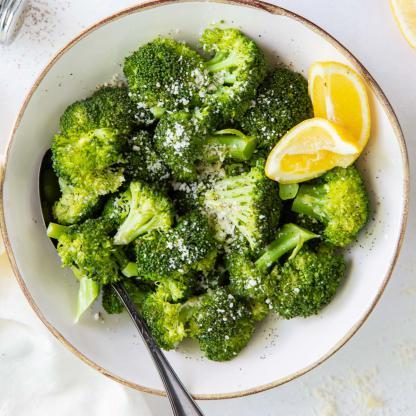broccoli: (34, 28, 370, 362)
